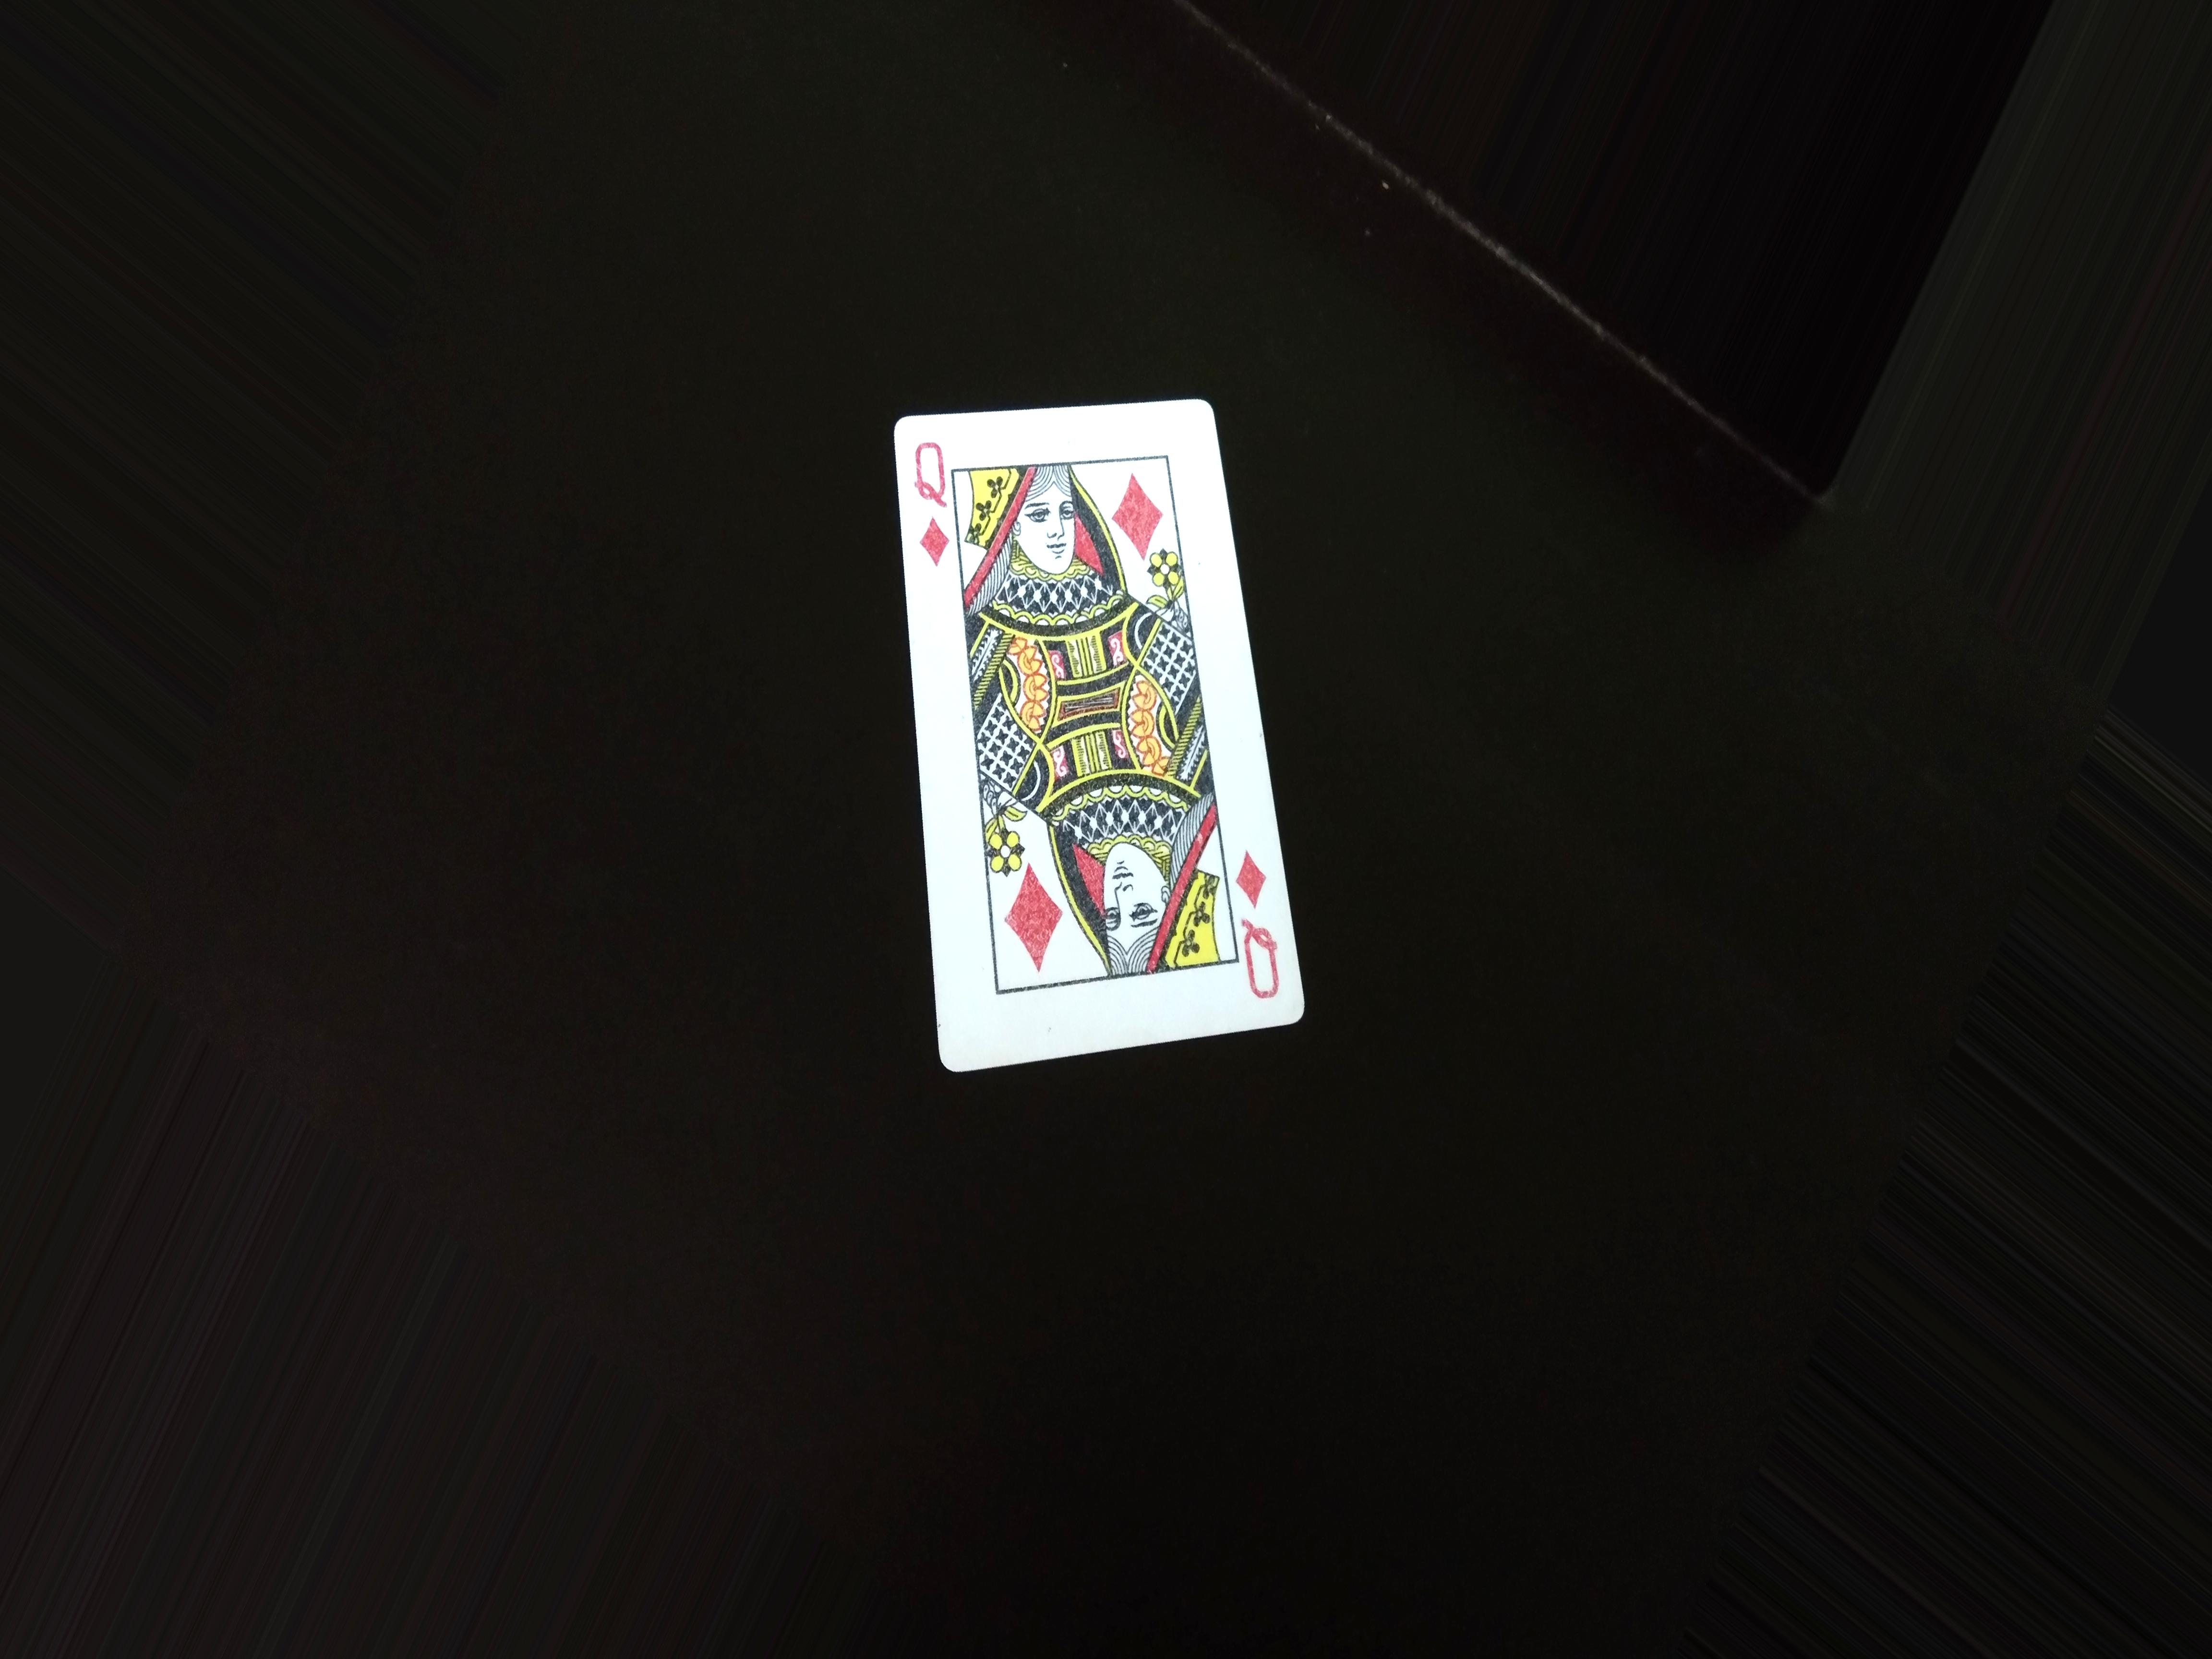QD: (916, 432, 956, 587)
